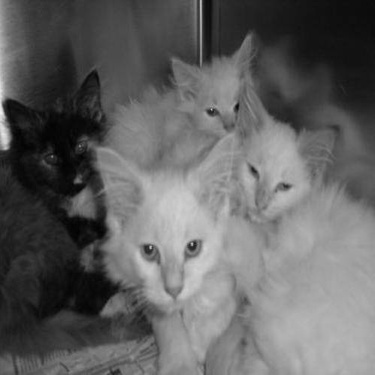cat: (222, 92, 365, 356), (89, 137, 238, 363), (1, 55, 117, 229), (102, 34, 266, 139)
